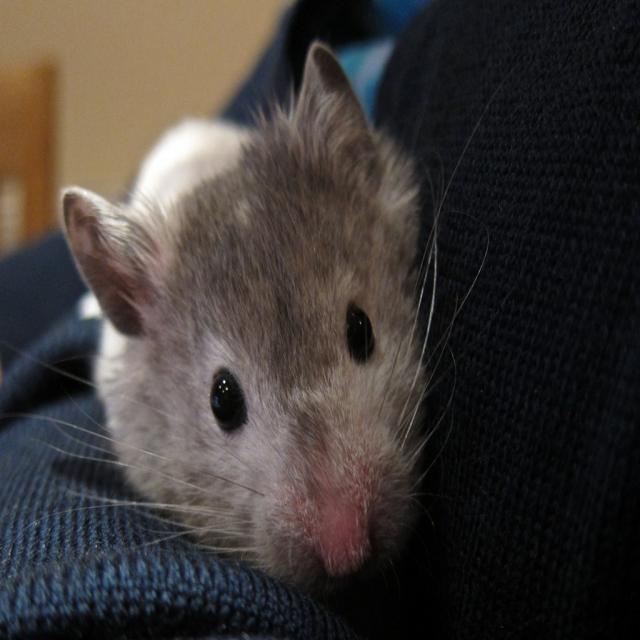rat: (54, 38, 440, 584)
